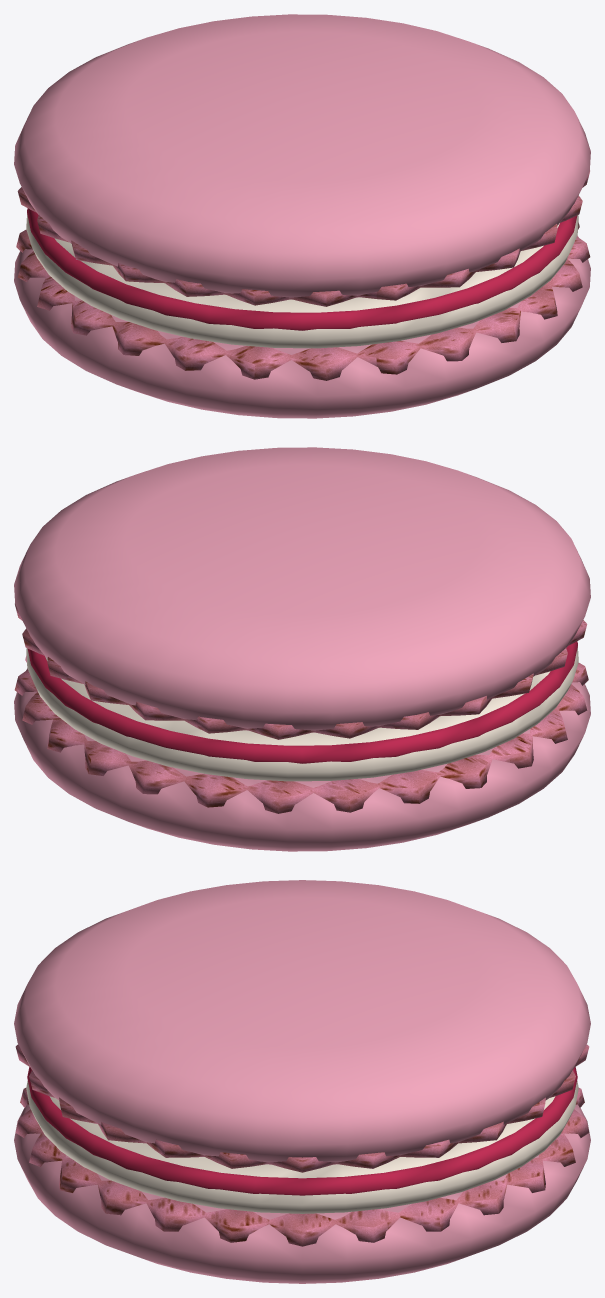
The model's file is macaron.glb.
3 views of the same model, one above another, from view 1: azimuth 30°, elevation 25°; view 2: azimuth 150°, elevation 25°; view 3: azimuth 270°, elevation 25° (orthographic).
Parts seen in each view (by area): view 1: macaron; view 2: macaron; view 3: macaron.
Boxes of the visible parts, <box> form: macaron: <box>14,14,590,418</box>; macaron: <box>14,447,590,851</box>; macaron: <box>14,880,590,1283</box>.
Size of the model in its own units: 2 by 0.8795 by 2.
Materials: 4 (1 with a texture image).
